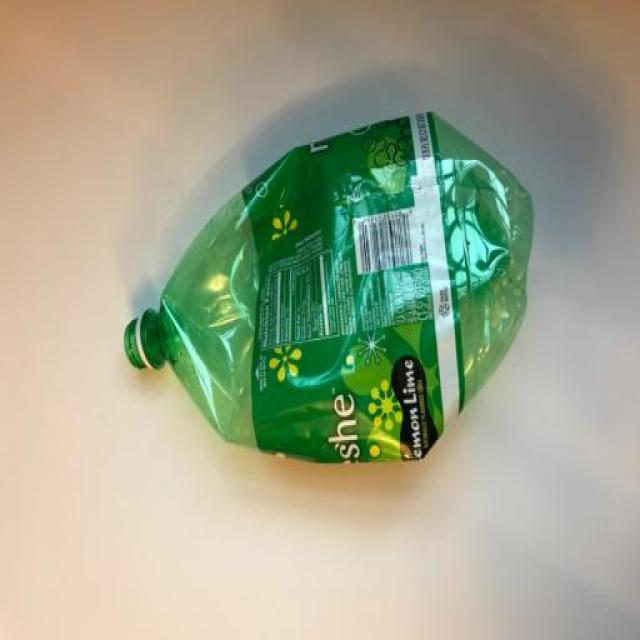plastic_bottle: (108, 96, 588, 497)
